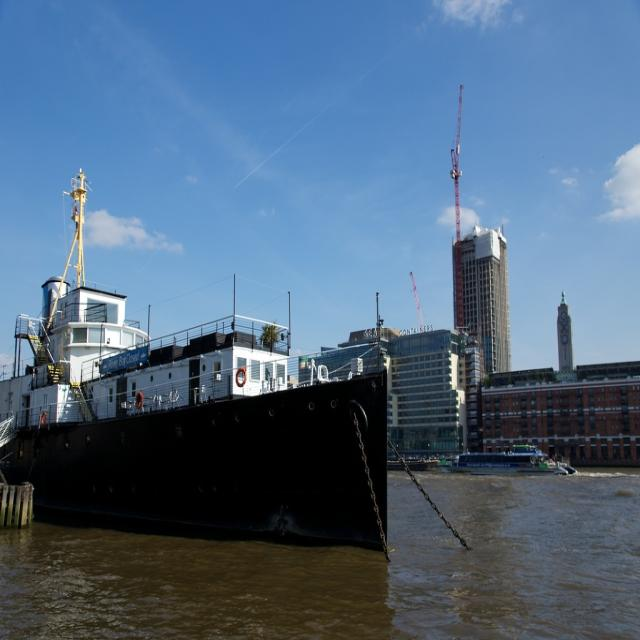Boat: (0, 166, 390, 556), (448, 448, 574, 478)
